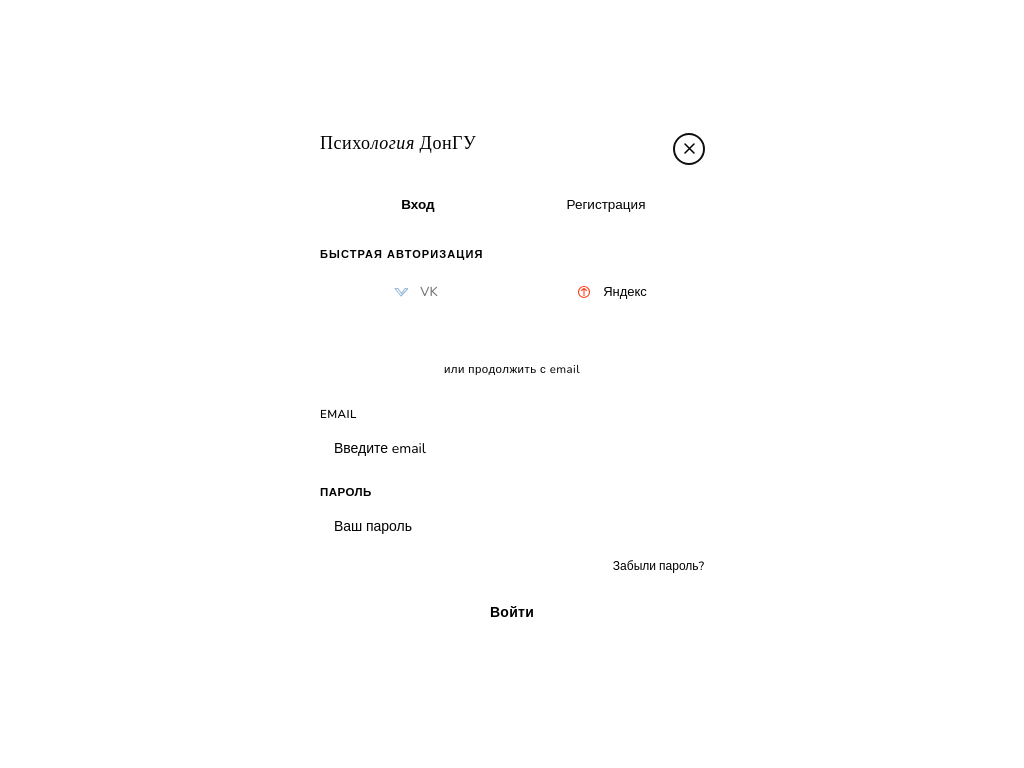
Test case: шаг кода обычной регистрации: общий шаг без вкладок, «Изменить данные» возвращает их
This screenshot has width=1024, height=768.
Expected: the button with aria-label "Войти через Яндекс" is enabled, 516,272 -> 704,312
Click the tab "Регистрация" at (606, 204), box 512,186 -> 700,222
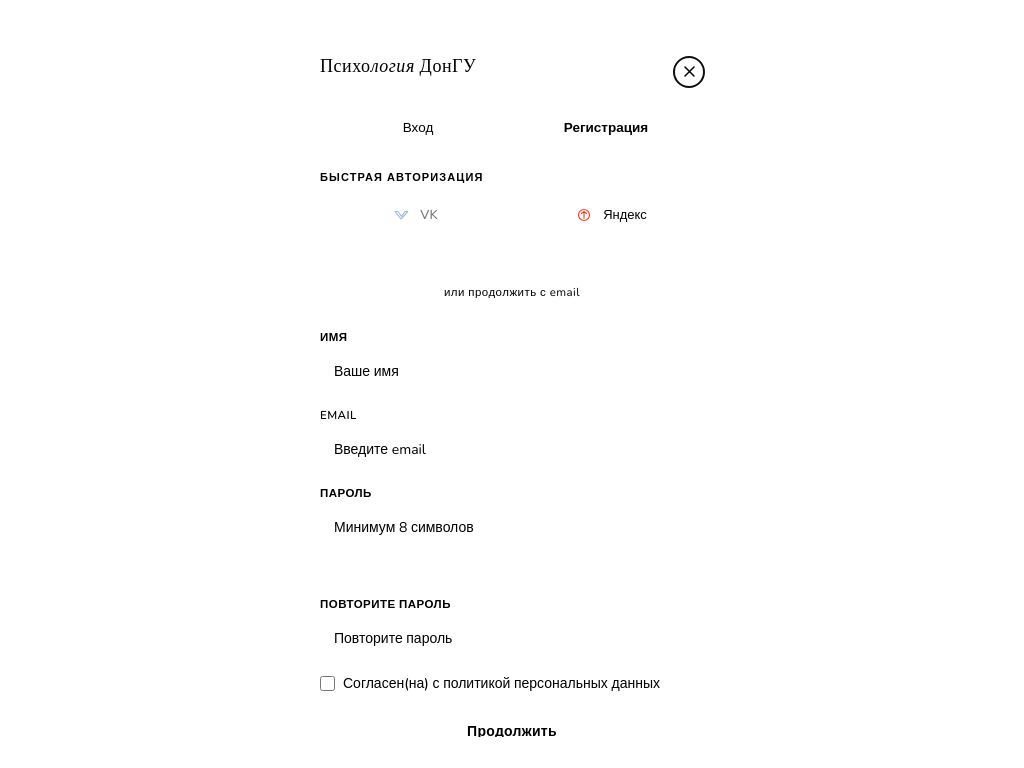
Type "Иван Студентов" into the field labelled "Имя" at (512, 372), box 320,350 -> 704,394
Type "student@donnu.ru" into the field labelled "Email" at (512, 450), box 320,428 -> 704,472
Type "SecurePass42!" into the password field labelled "Пароль" at (512, 528), box 320,506 -> 704,550
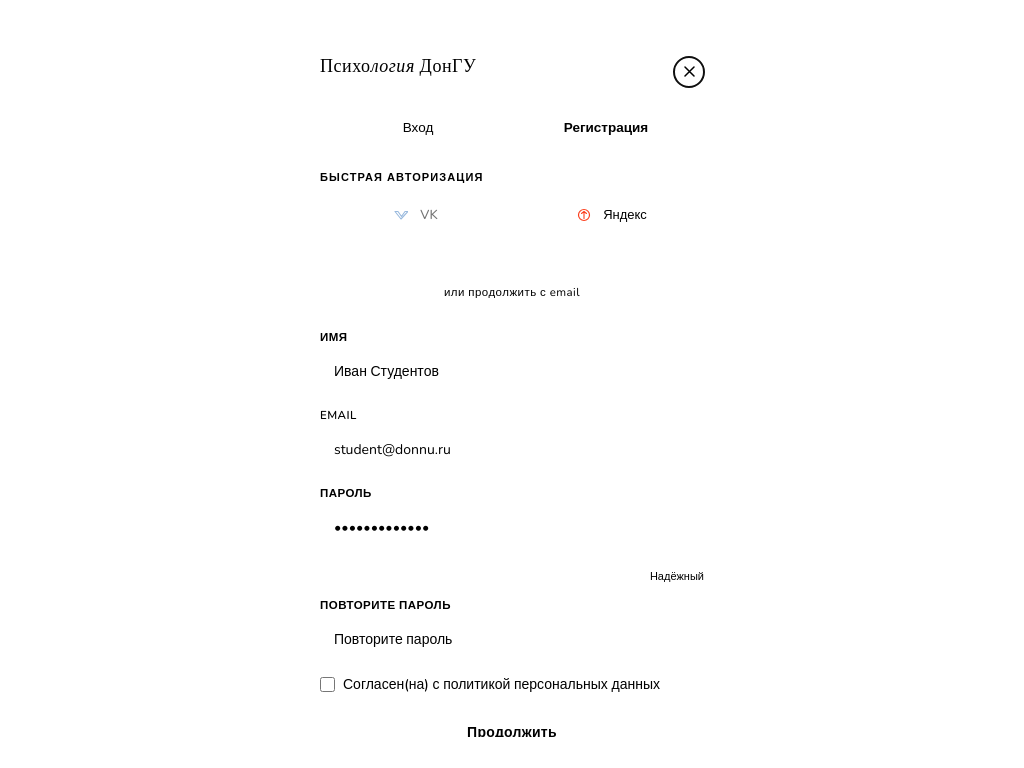
Type "SecurePass42!" into the password field labelled "Повторите пароль" at (512, 640), box 320,618 -> 704,662
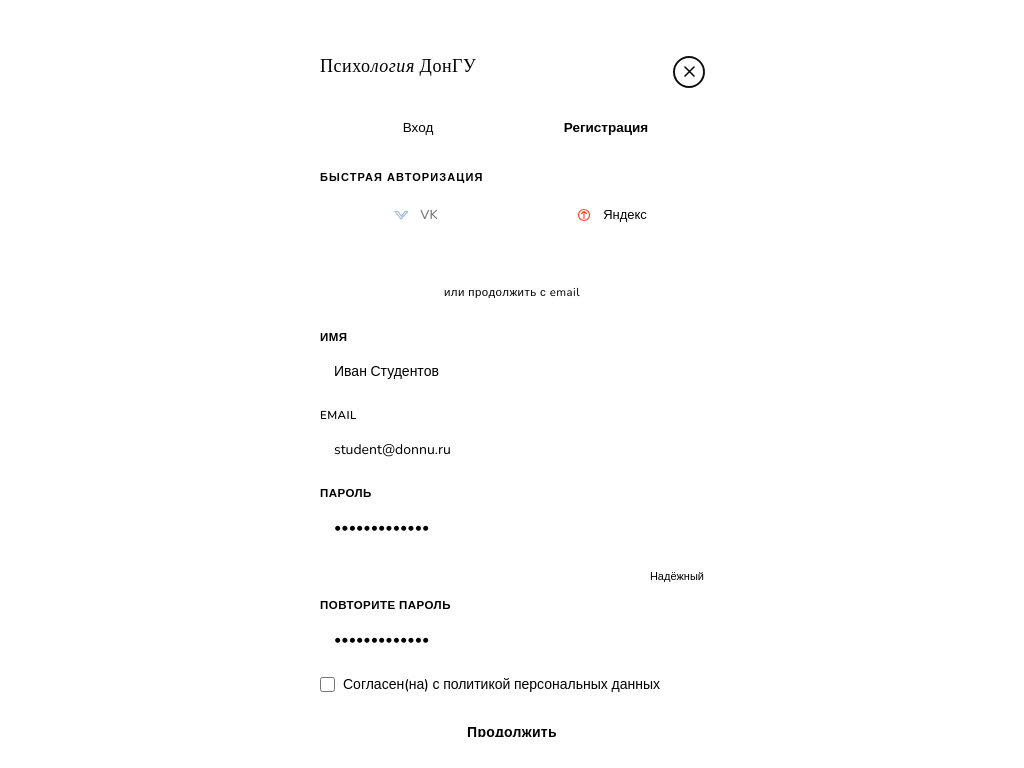
Click the checkbox at (328, 684), box 320,677 -> 335,692
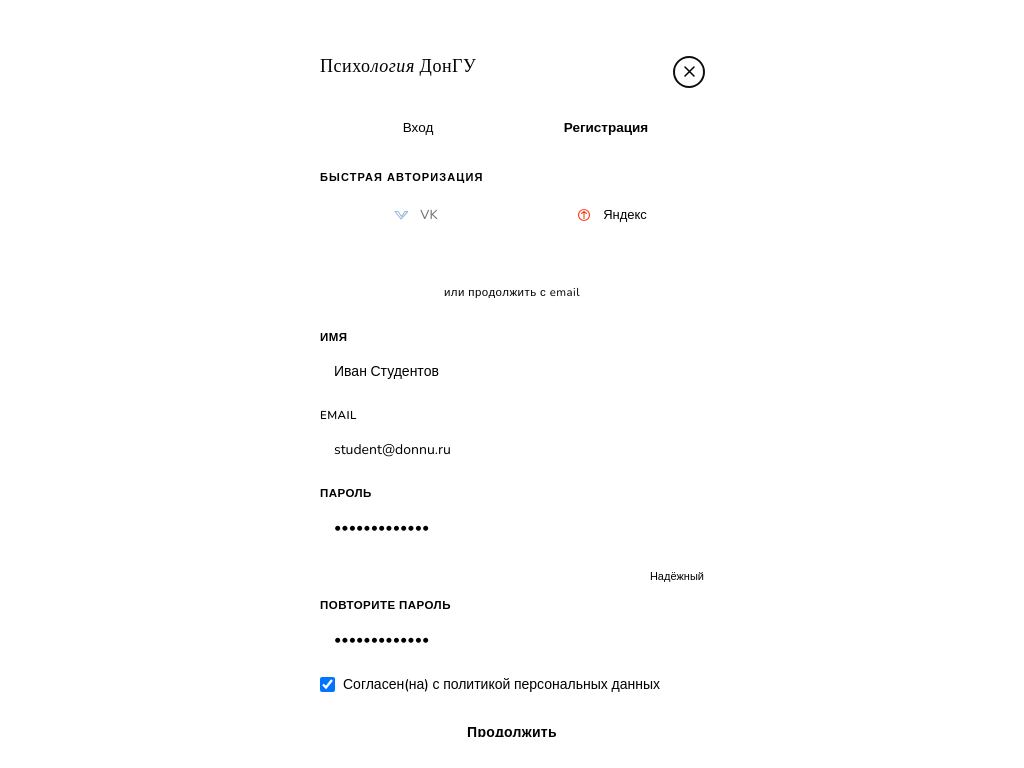
Click the button "Продолжить" at (512, 732), box 320,710 -> 704,755
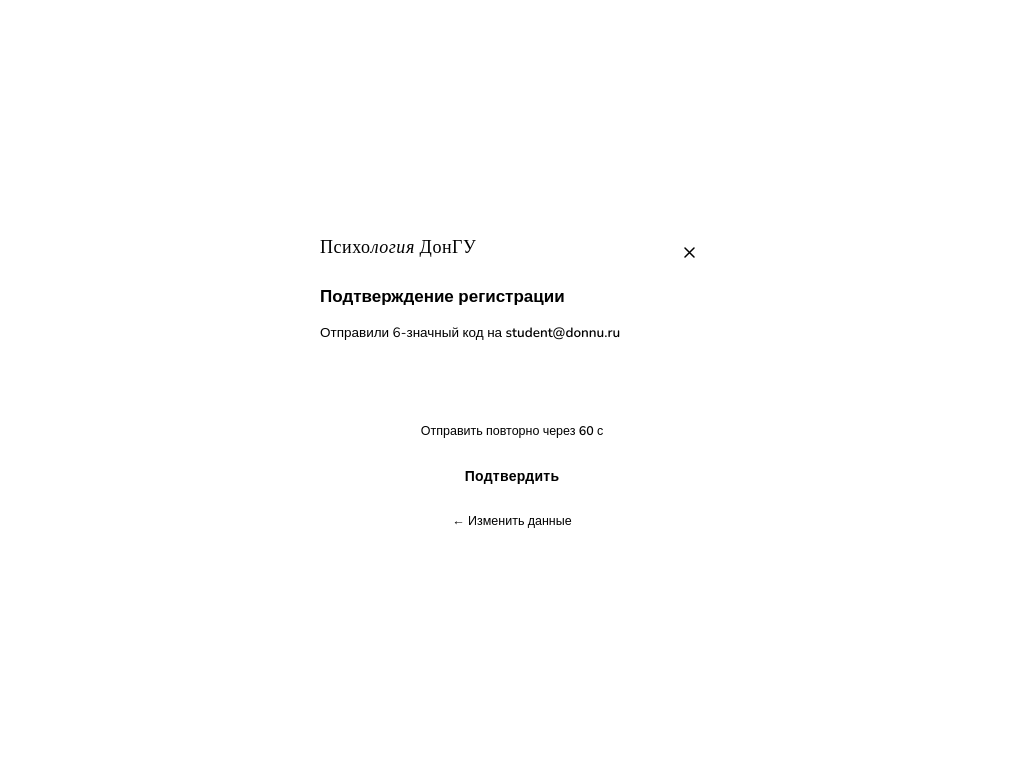
Expected: the heading "Подтверждение регистрации" is shown, 320,285 -> 565,308
Expected: the text "student@donnu.ru" is shown, 506,323 -> 620,342
Expected: the tab is gone
Click the button "← Изменить данные" at (512, 521), box 452,512 -> 572,530
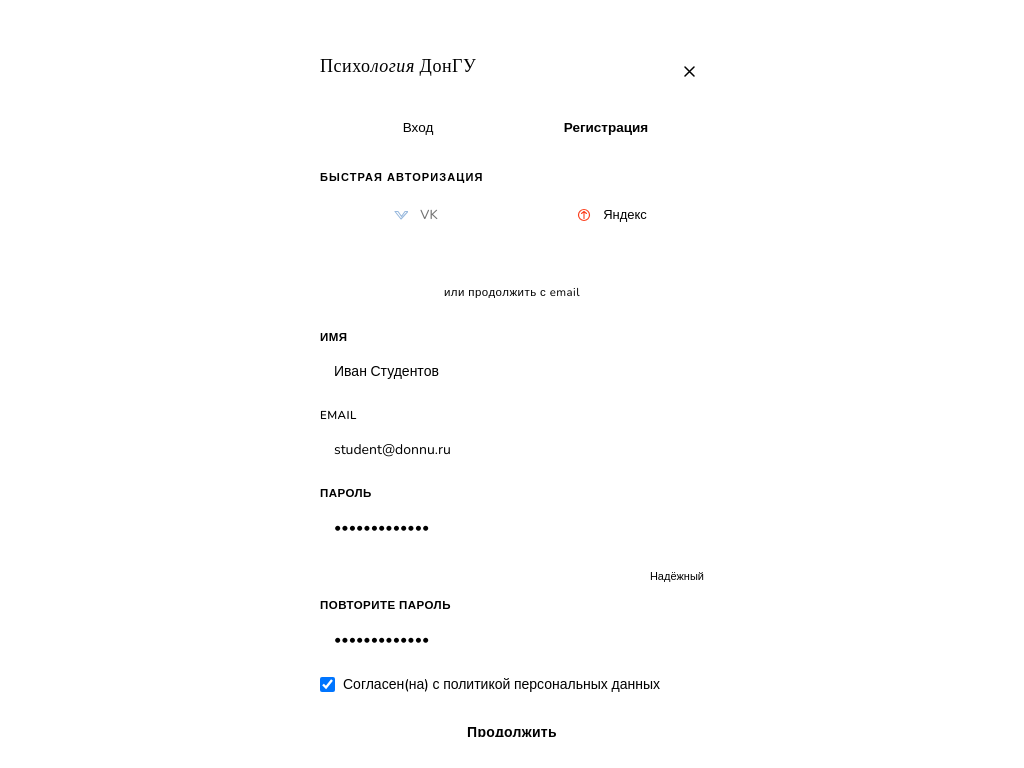
Expected: the element showing "Вход Регистрация" is shown, 320,105 -> 704,150
Expected: the field labelled "Имя" holds "Иван Студентов", 320,350 -> 704,394
Expected: the button with aria-label "Войти через Яндекс" is enabled, 516,195 -> 704,235
